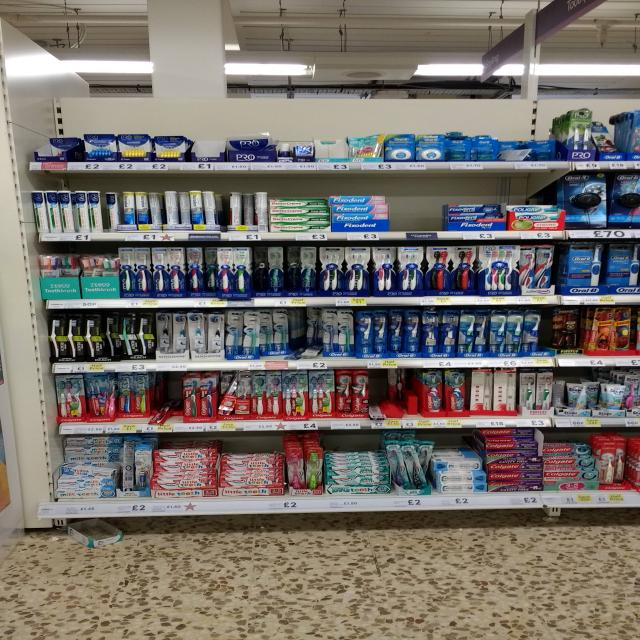unorganised: (58, 440, 154, 497), (115, 370, 183, 422), (253, 247, 316, 294), (259, 311, 326, 355), (203, 189, 267, 232), (554, 379, 626, 409), (541, 311, 591, 354), (596, 437, 631, 490), (443, 134, 501, 161), (149, 191, 189, 229), (97, 190, 123, 236), (444, 202, 506, 216), (348, 136, 382, 160), (218, 374, 238, 414), (43, 137, 75, 159)
